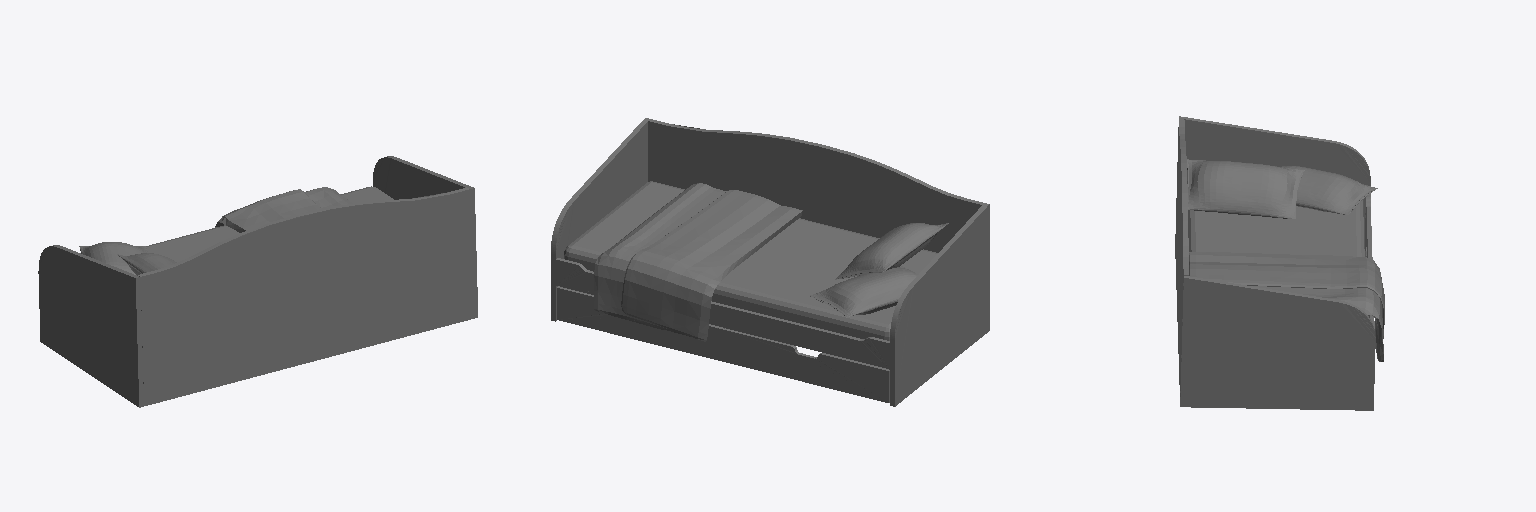
Rendered from Bed.obj.
3 views of the same model, side by side, from view 1: azimuth 30°, elevation 25°; view 2: azimuth 150°, elevation 25°; view 3: azimuth 270°, elevation 25° (orthographic).
Parts seen in each view (by area): view 1: Board3, Board2, Board1, Blanket, Bed, Pillow1, Pillow2; view 2: Board3, Blanket, Bed, Board2, Drawer2, Board1, BedBase, Drawer1, Pillow1, Pillow2; view 3: Board1, Blanket, Bed, Board2, Pillow2, Pillow1, Board3.
Part boxes in pixels (left/top/right/bottom): Board3: left=138, top=187, right=473, bottom=405; Board2: left=38, top=245, right=143, bottom=407; Board1: left=373, top=156, right=477, bottom=318; Blanket: left=215, top=187, right=352, bottom=232; Bed: left=146, top=186, right=393, bottom=262; Pillow1: left=79, top=242, right=147, bottom=274; Pillow2: left=117, top=253, right=176, bottom=275; Board3: left=648, top=119, right=983, bottom=252; Blanket: left=594, top=183, right=802, bottom=341; Bed: left=564, top=181, right=937, bottom=340; Board2: left=890, top=203, right=989, bottom=406; Drawer2: left=723, top=328, right=889, bottom=402; Board1: left=551, top=118, right=648, bottom=321; BedBase: left=556, top=258, right=889, bottom=369; Drawer1: left=557, top=286, right=724, bottom=361; Pillow1: left=810, top=266, right=917, bottom=317; Pillow2: left=835, top=223, right=948, bottom=279; Board1: left=1180, top=276, right=1375, bottom=410; Blanket: left=1189, top=252, right=1384, bottom=361; Bed: left=1187, top=181, right=1365, bottom=256; Board2: left=1175, top=116, right=1370, bottom=235; Pillow2: left=1187, top=159, right=1304, bottom=218; Pillow1: left=1282, top=166, right=1377, bottom=214; Board3: left=1175, top=118, right=1188, bottom=392.
Bounding box in the file's own units: 1.9 × 0.8096 × 1.